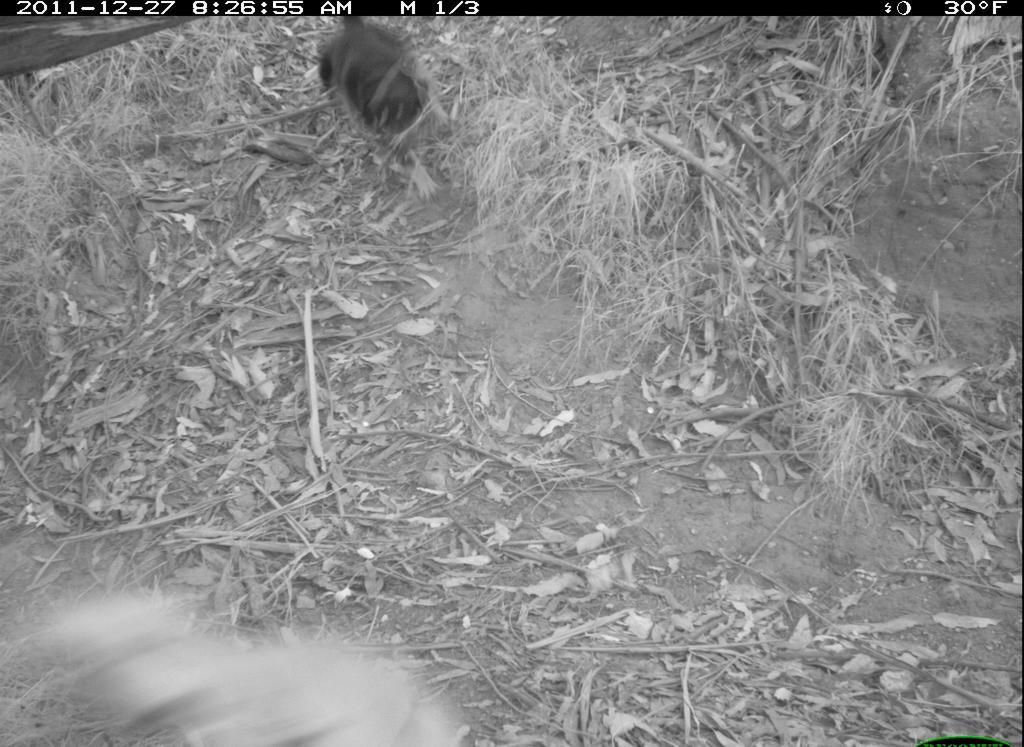dog: (3, 551, 486, 745), (306, 17, 468, 208)
